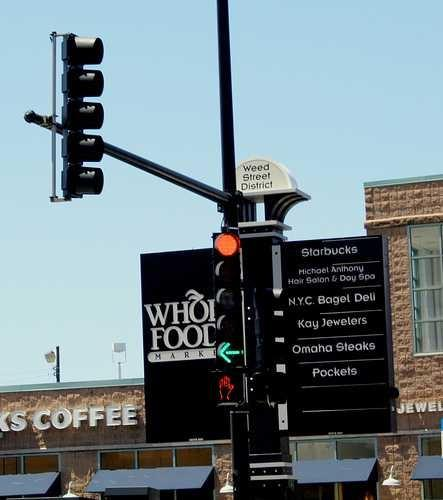green: (213, 288, 247, 369), (213, 341, 245, 364)
red: (217, 230, 243, 312), (212, 229, 248, 258)
